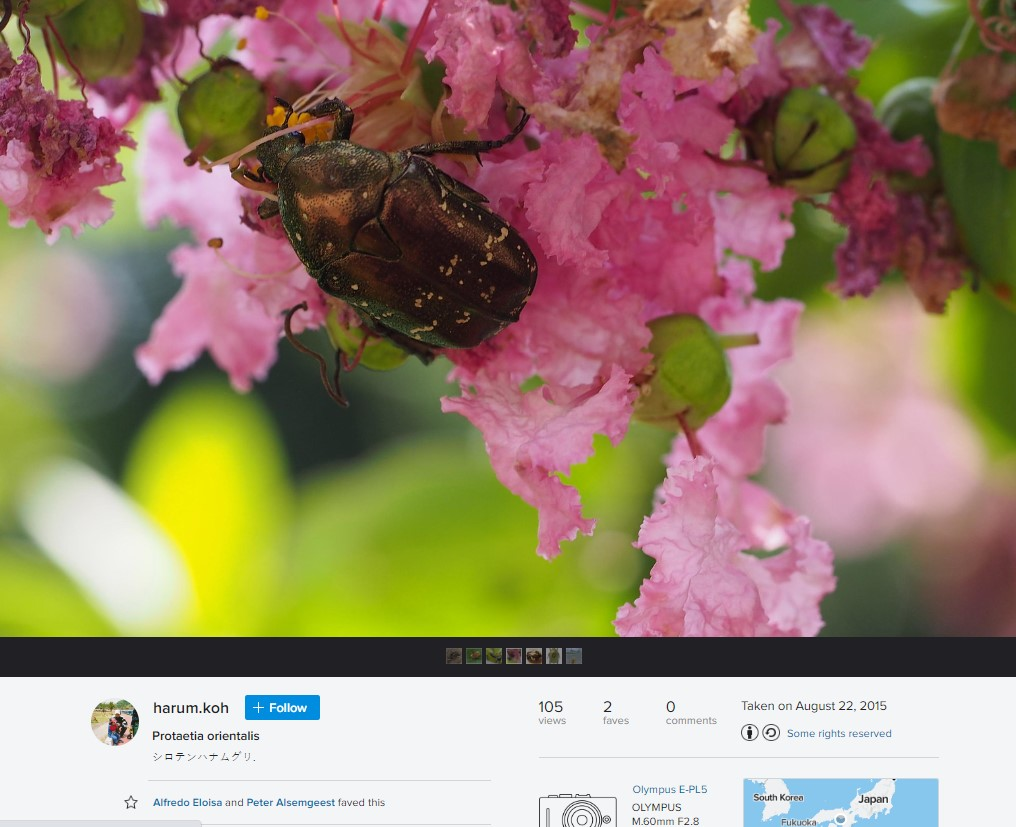Protaetia _orientalis: (259, 110, 557, 388)
